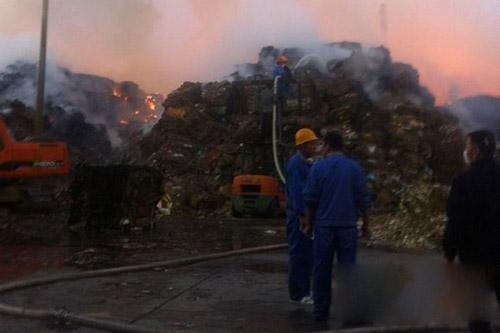fire: (106, 81, 160, 126)
